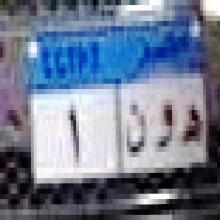1: (64, 100, 88, 170)
haa: (180, 98, 204, 155)
noon: (123, 95, 149, 167)
waw: (154, 94, 175, 160)
